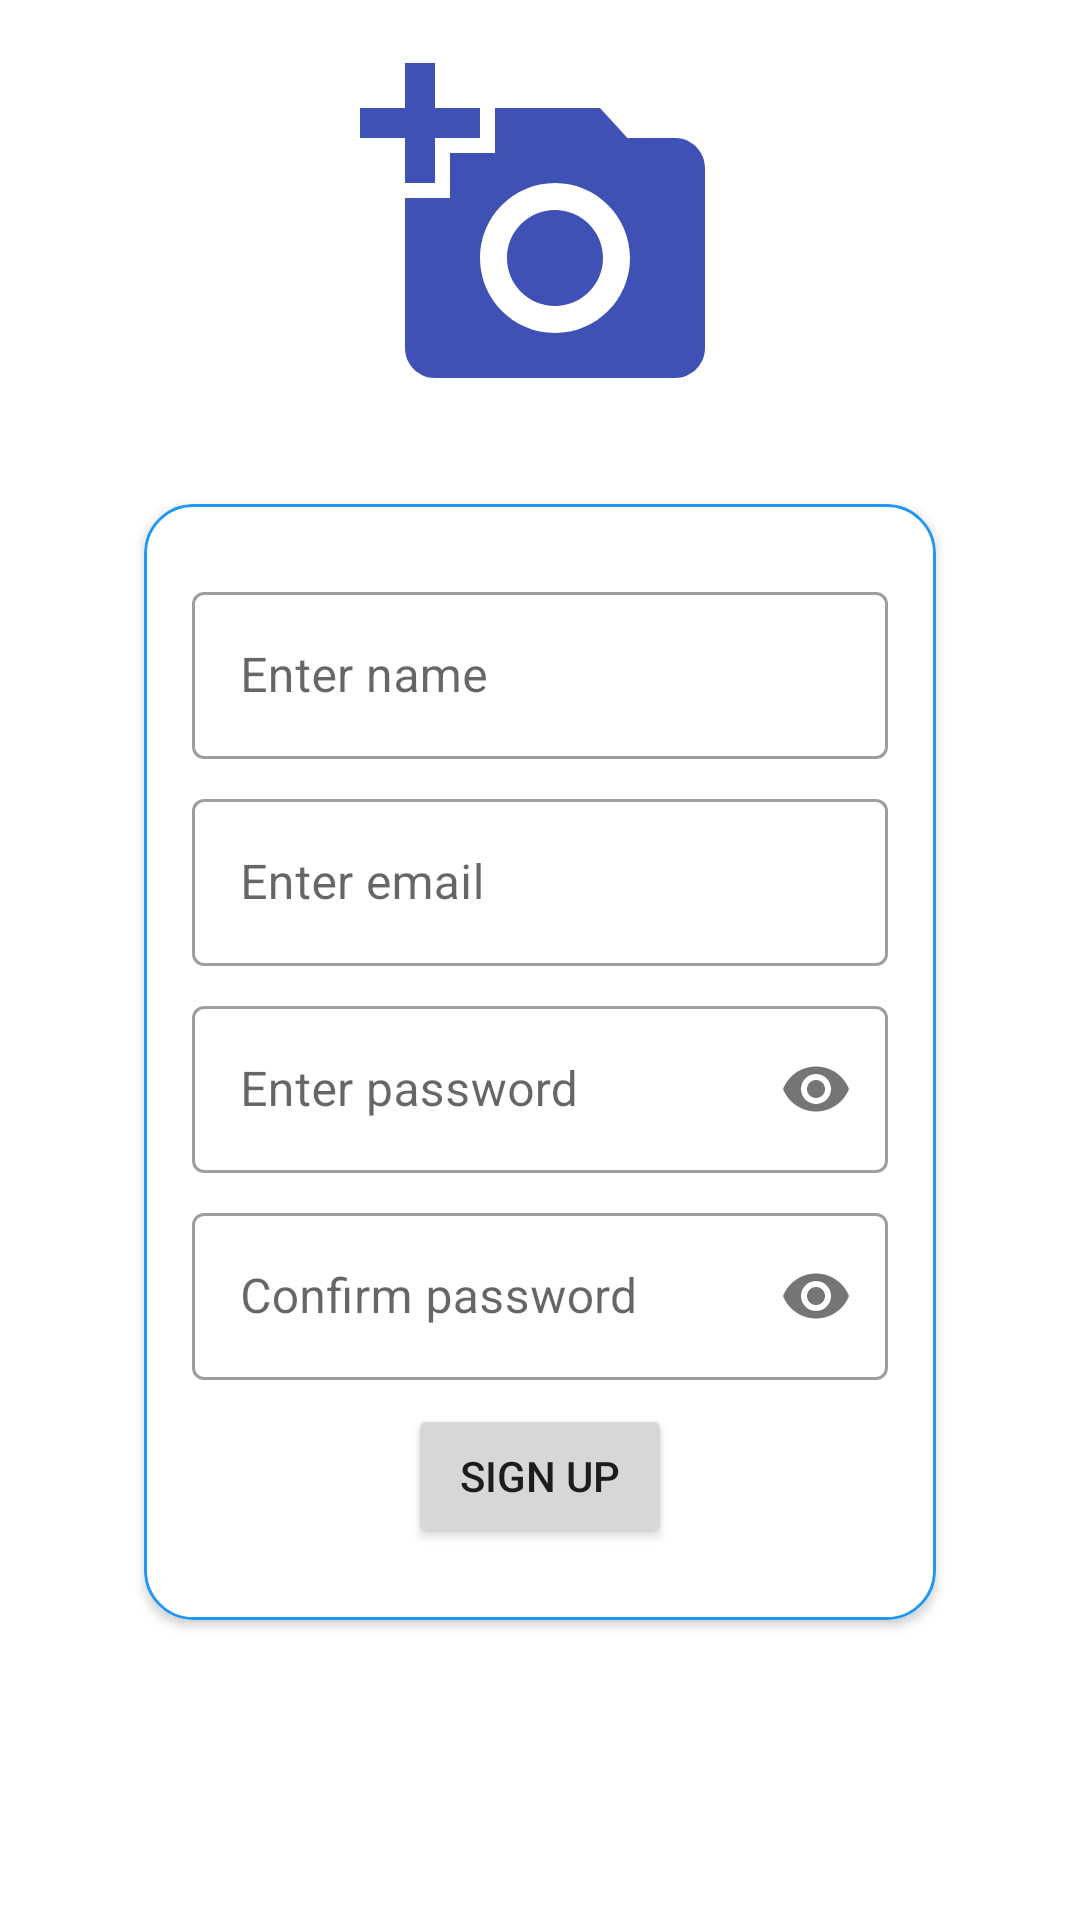

Where icons sit on this 1080x1920 app screen, as detection(x1, y1, x2, y2):
add photo: detection(360, 63, 705, 378)
